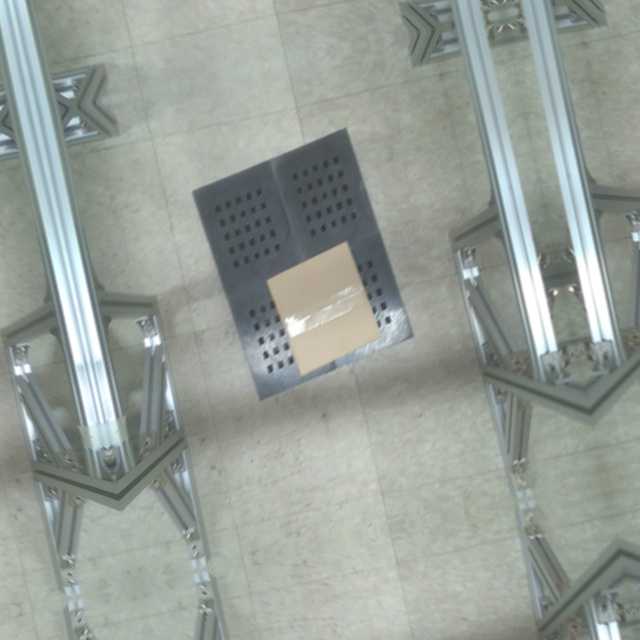box: (262, 235, 387, 379)
pallet: (176, 111, 430, 419)
